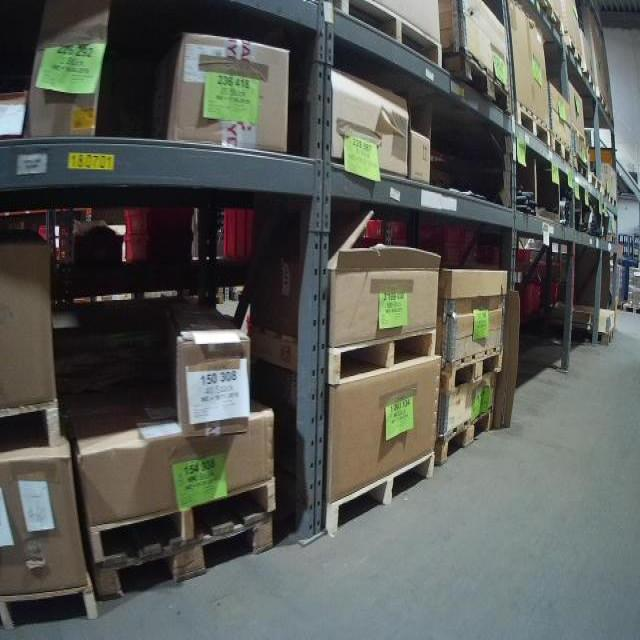pallet: (88, 471, 278, 564), (95, 511, 277, 607), (251, 328, 438, 389), (318, 450, 436, 537), (340, 0, 443, 74), (0, 569, 94, 632), (443, 45, 514, 123), (0, 392, 63, 465), (434, 404, 493, 474), (438, 343, 507, 393), (515, 94, 554, 155), (564, 321, 617, 348), (529, 1, 565, 39), (563, 34, 586, 80), (552, 128, 575, 173), (584, 62, 598, 99), (589, 164, 604, 198), (575, 154, 589, 183), (597, 89, 610, 117), (621, 303, 639, 313)
small_load_carrier: (221, 211, 283, 270), (118, 235, 197, 272), (120, 208, 198, 235), (422, 221, 466, 244), (363, 217, 391, 243)
